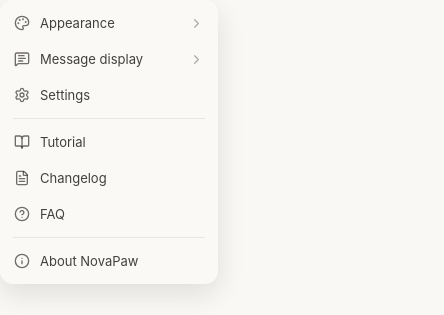
SidebarSettingsPanel › exposes the four message display controls
Step 1. Click the button "Message display" → click(109, 59), box x1=5 y1=41 x2=213 y2=77
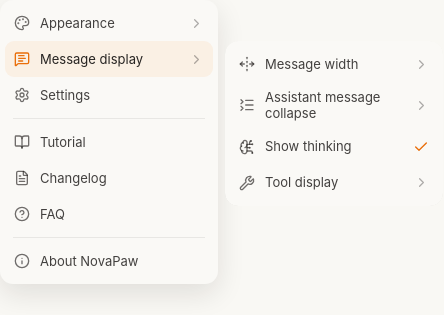
Result: the text "Message width" is shown at x1=265 y1=56 x2=358 y2=72
Result: the text "Tool display" is shown at x1=265 y1=174 x2=338 y2=191
Result: the text "Assistant message collapse" is shown at x1=265 y1=89 x2=380 y2=121
